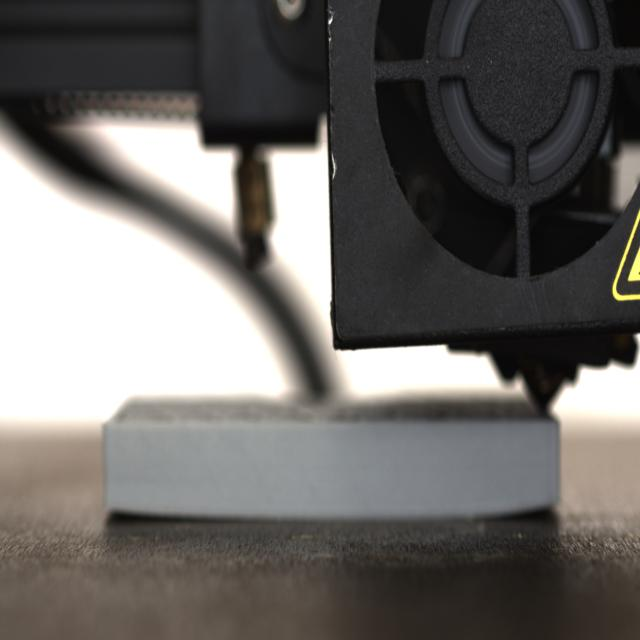Warping: (94, 495, 176, 530), (487, 494, 557, 528)
